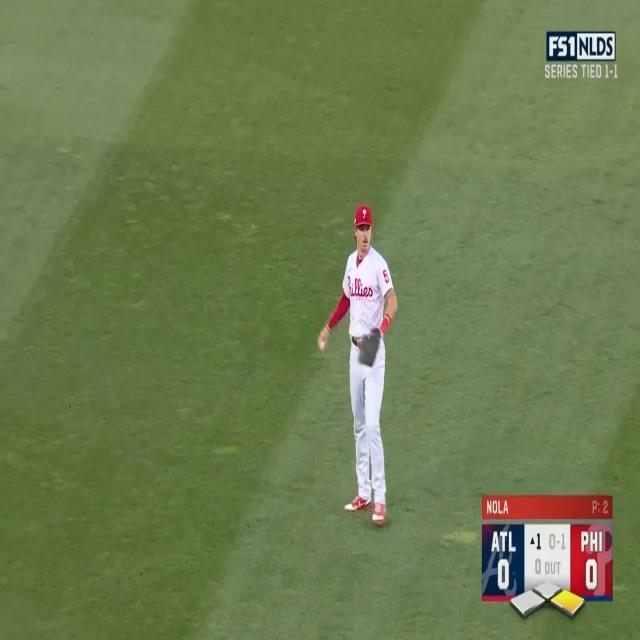baseball: (318, 338, 326, 352)
